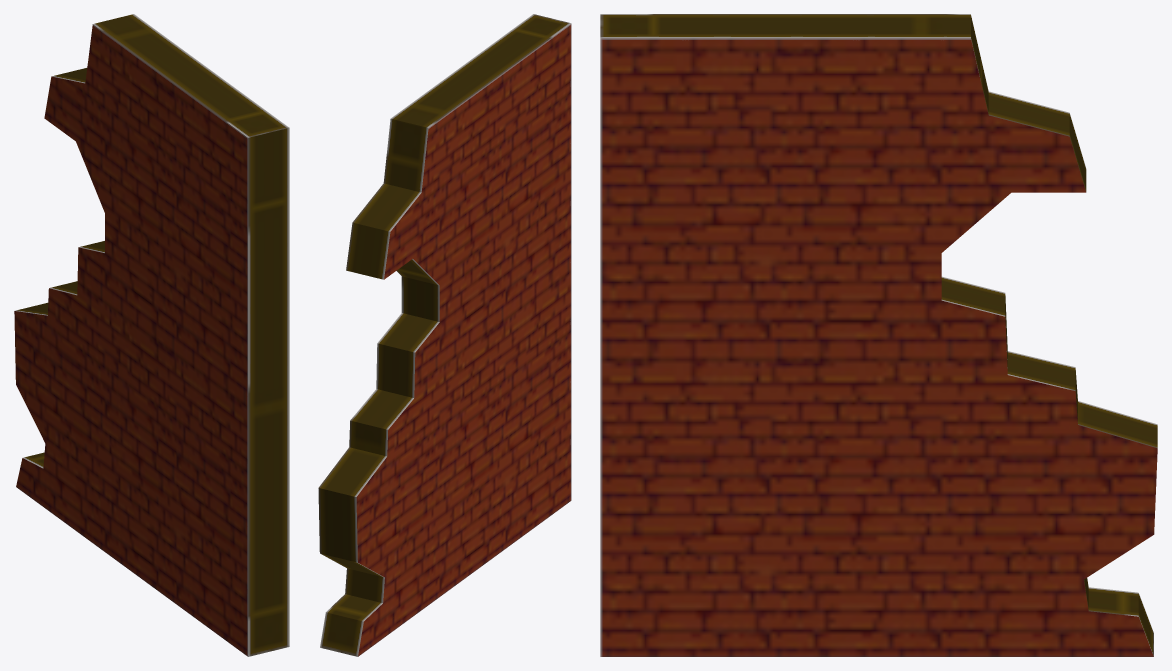
File: Wall_Broken_R_13.fbx
3 renders of one model, left to right at view 1: azimuth 30°, elevation 25°; view 2: azimuth 150°, elevation 25°; view 3: azimuth 270°, elevation 25°, orthographic. The views are drawn at different scales.
Parts seen in each view (by area): view 1: Wall_Broken_R_13; view 2: Wall_Broken_R_13; view 3: Wall_Broken_R_13.
Boxes of the visible parts, x1=… form: Wall_Broken_R_13: x1=14, y1=14, x2=289, y2=656; Wall_Broken_R_13: x1=318, y1=14, x2=571, y2=656; Wall_Broken_R_13: x1=600, y1=14, x2=1157, y2=656.
Size of the model in its own units: 50 by 600 by 490.
